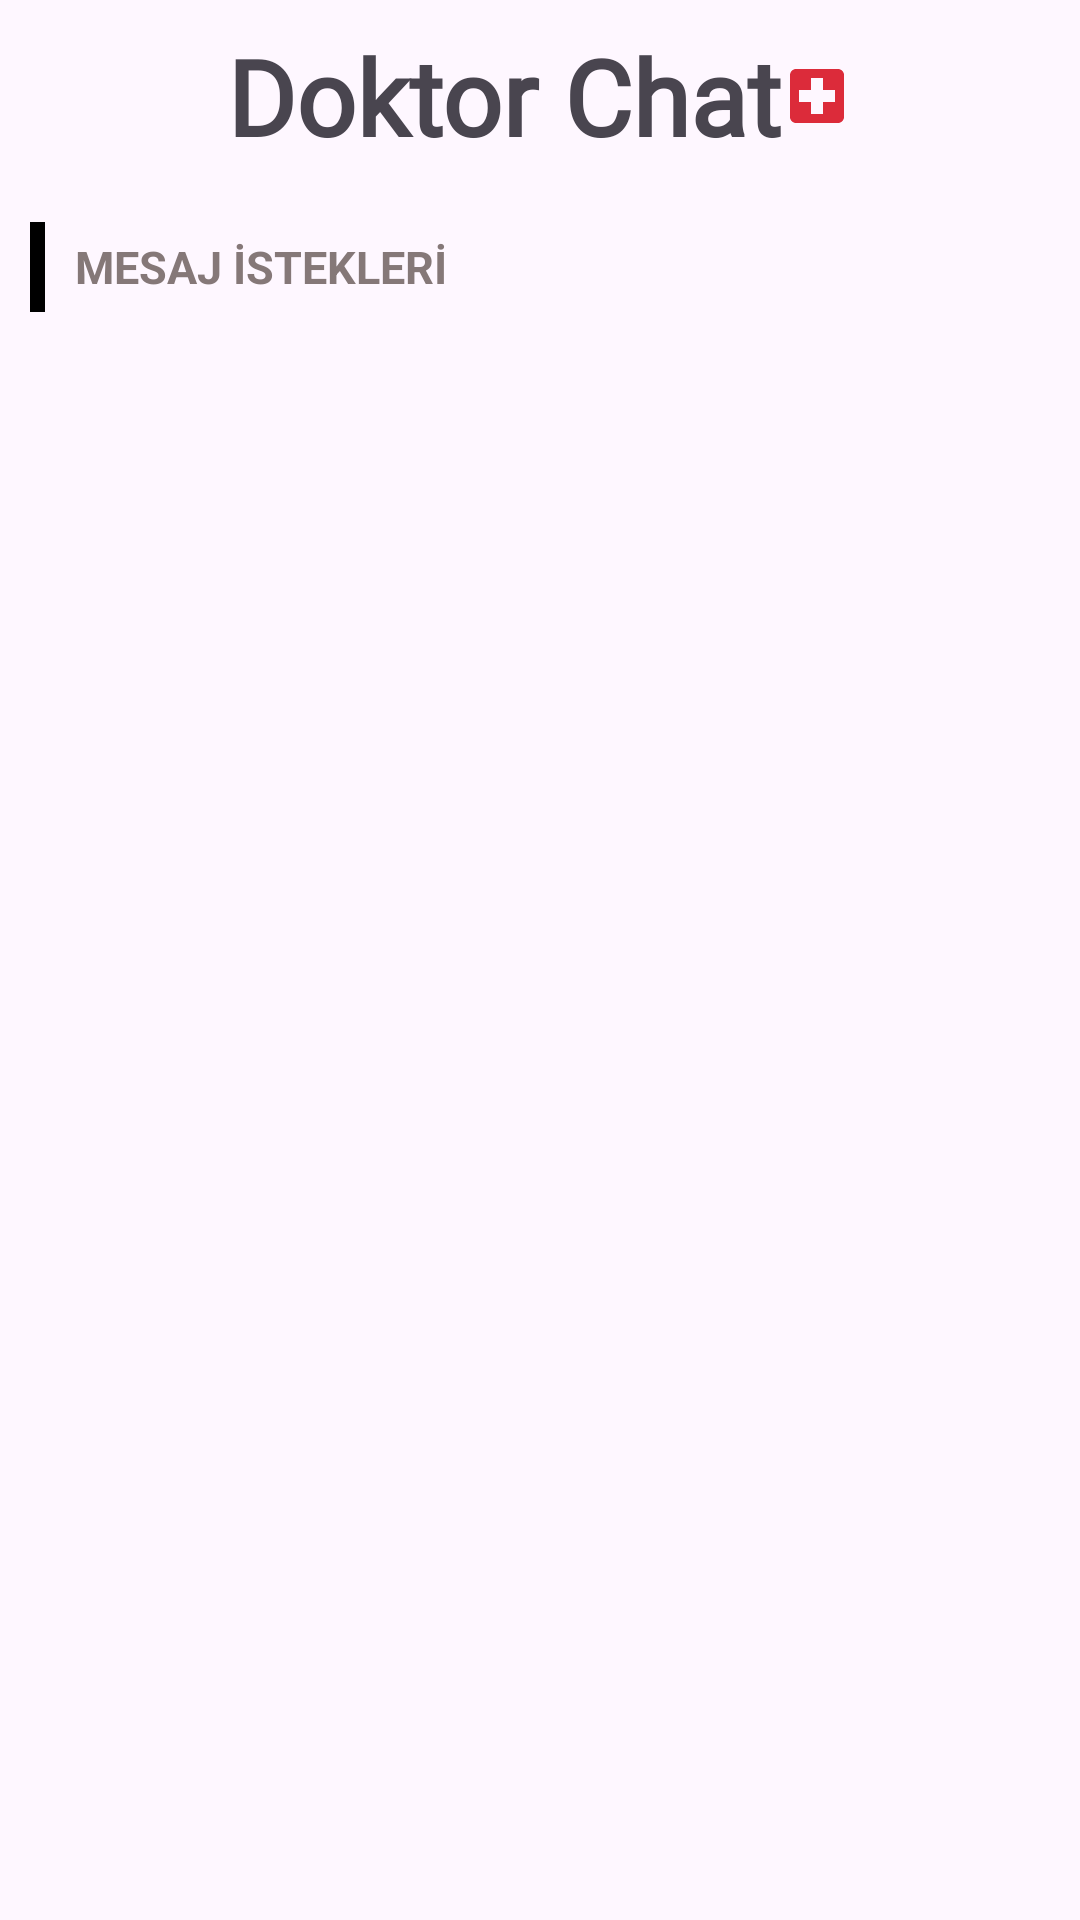

Icons on this 1080*1920 Android screen, each with the point to tap as (x=x, y=y):
hospital: (x=817, y=96)
